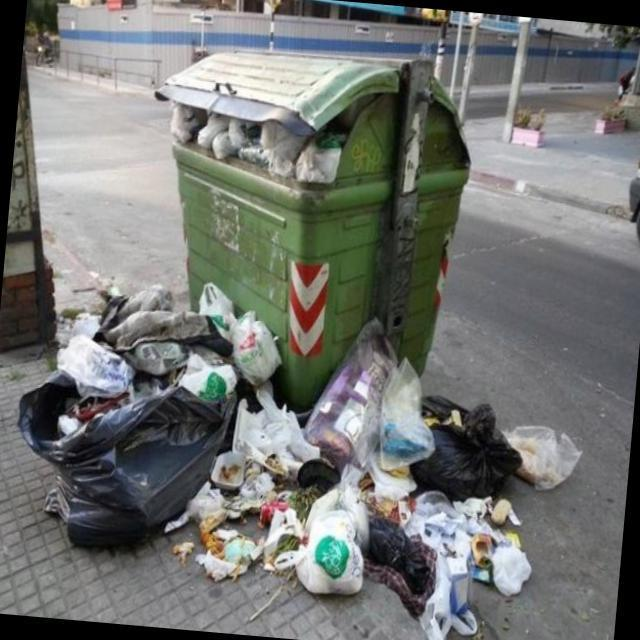garbage: (293, 289, 599, 640), (0, 265, 320, 580), (160, 97, 351, 191)
